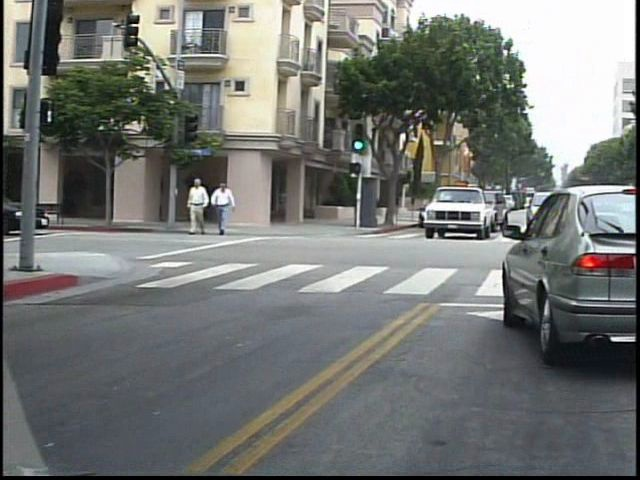person: (218, 175, 246, 239), (191, 175, 217, 241)
